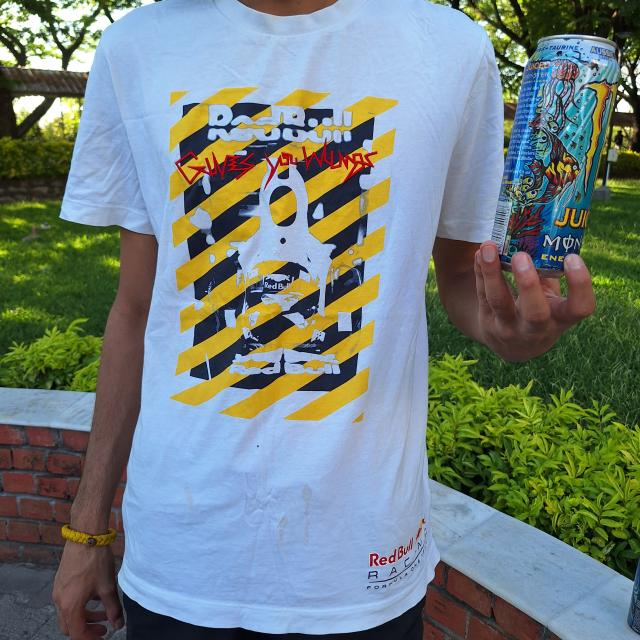Monster Aussie Lemonade: (486, 32, 628, 265)
